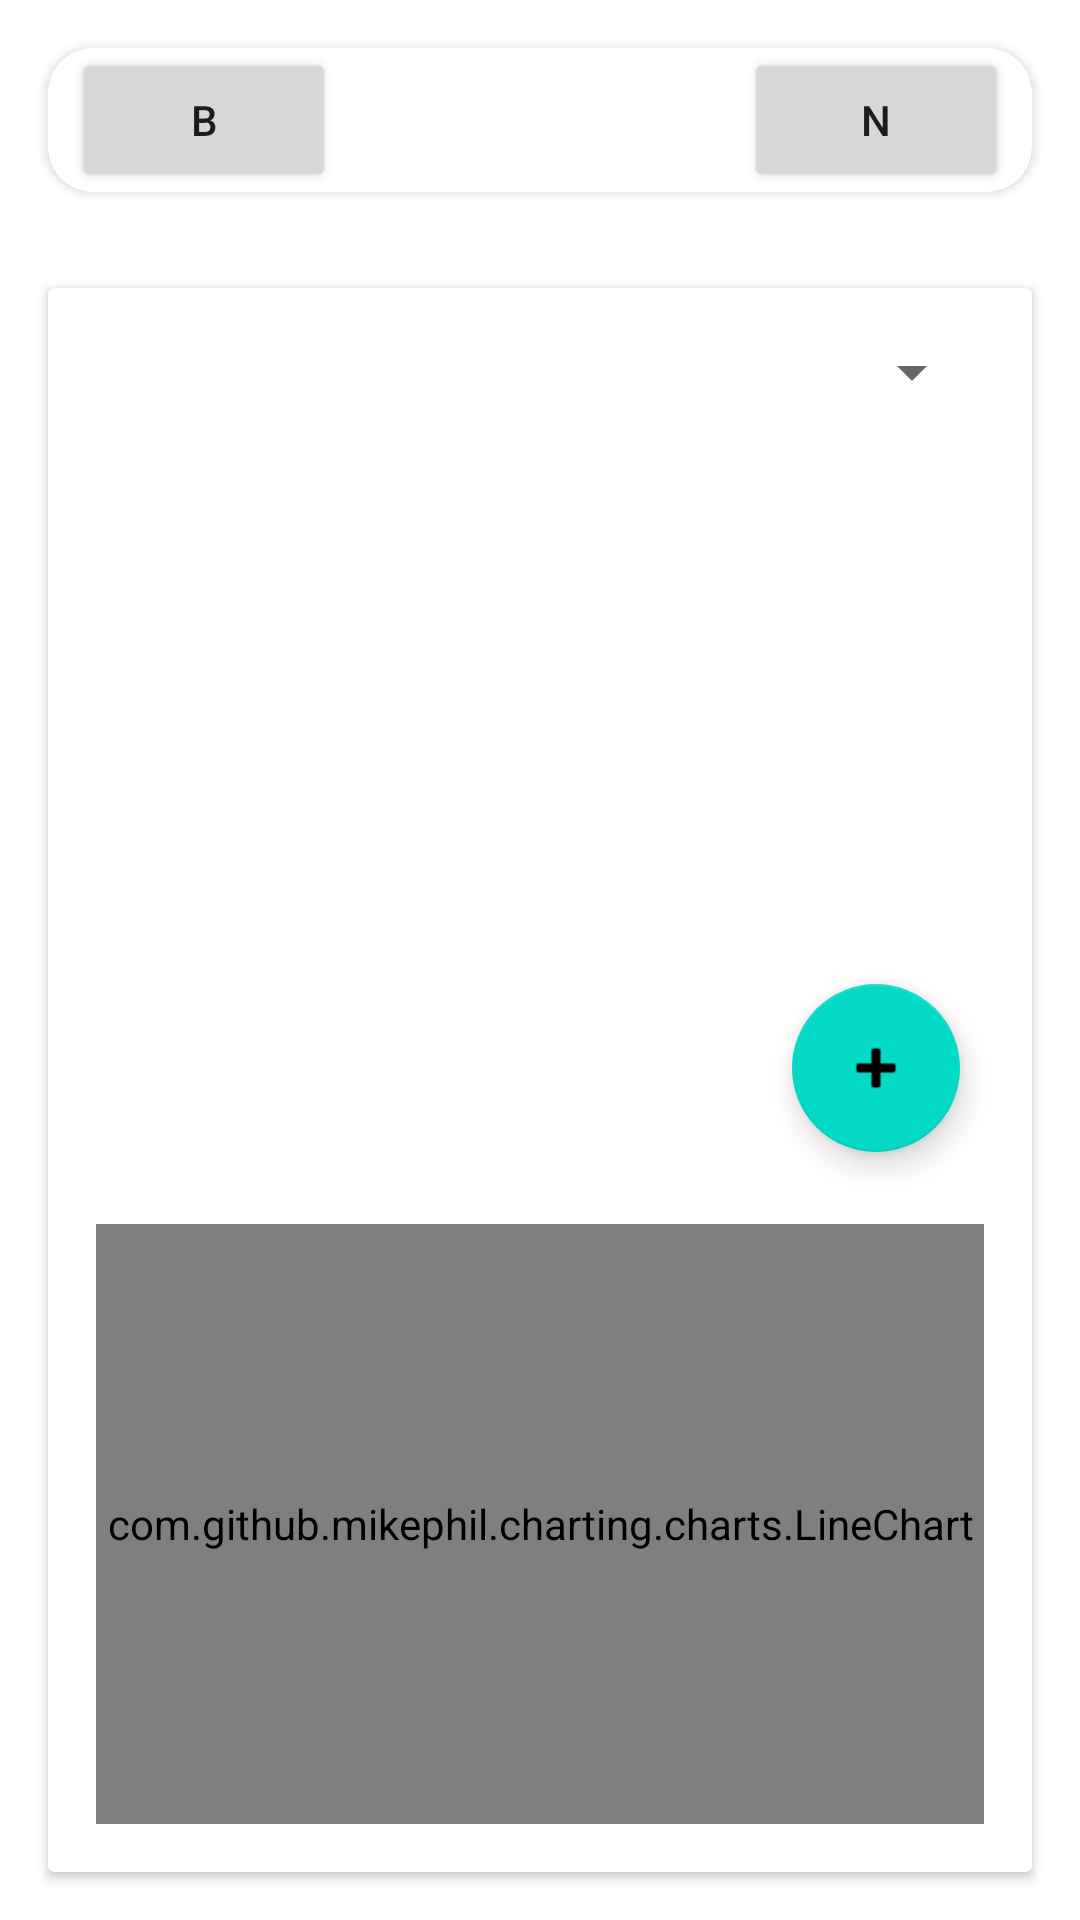

Screen size 1080w x 1920h. Icon name, then its center in pixels as (x=x, y=y):
add: (x=876, y=1068)
